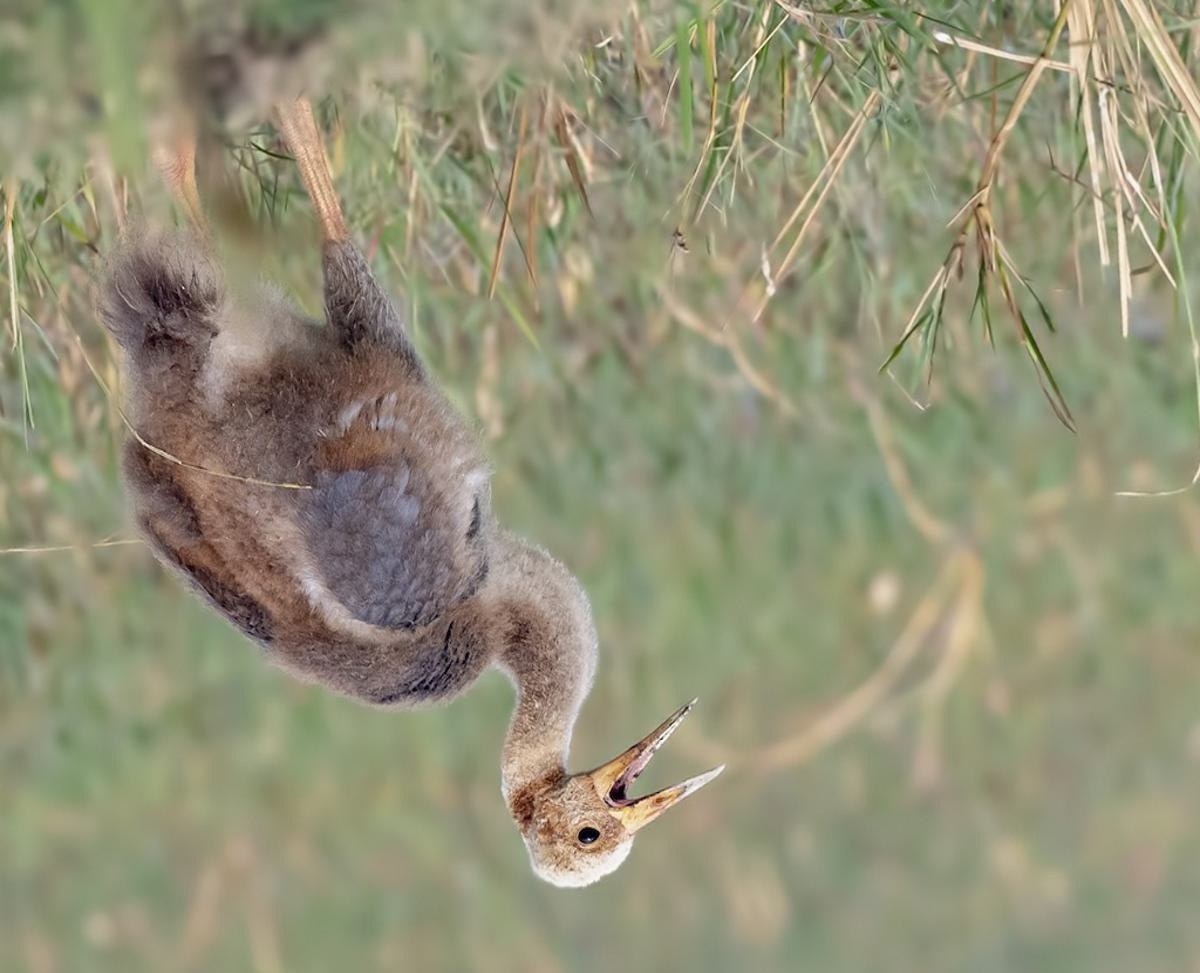crane: (85, 77, 735, 902)
